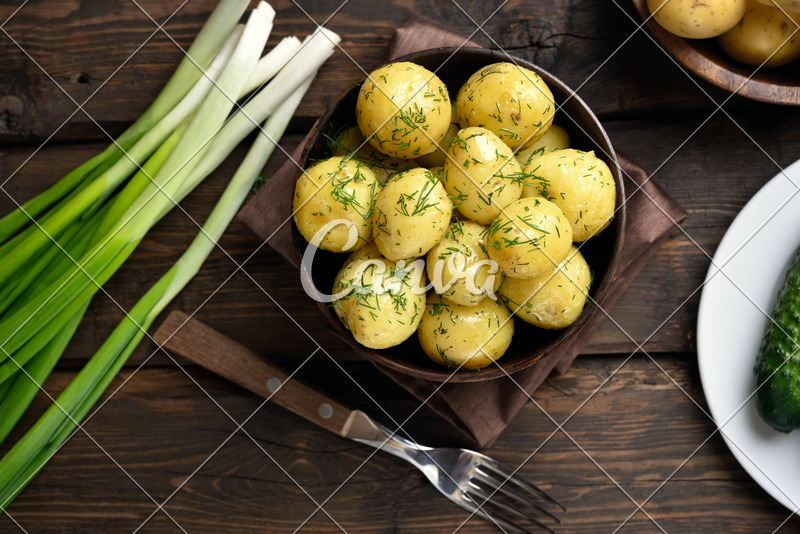boiled potatoes: (297, 69, 604, 345)
